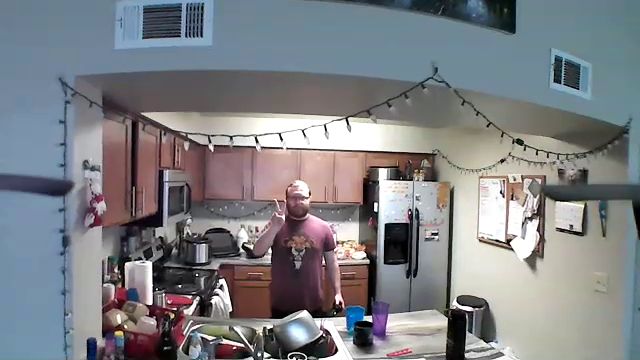peace: (266, 191, 289, 232)
